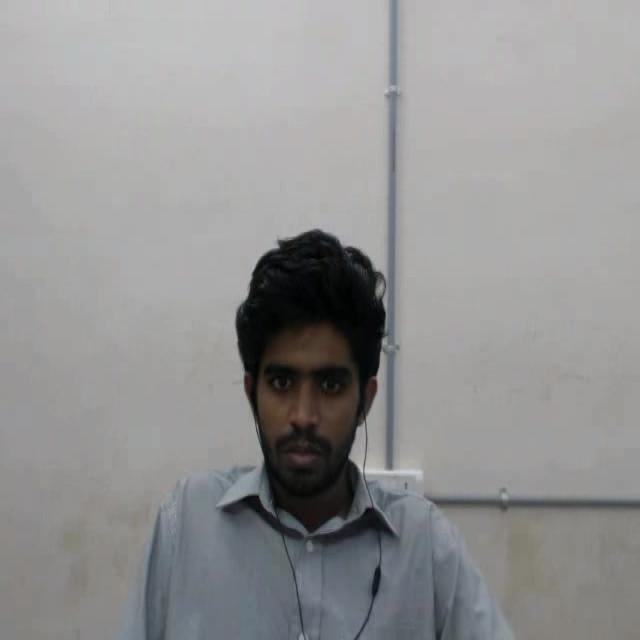Engaged: (209, 184, 395, 559)
